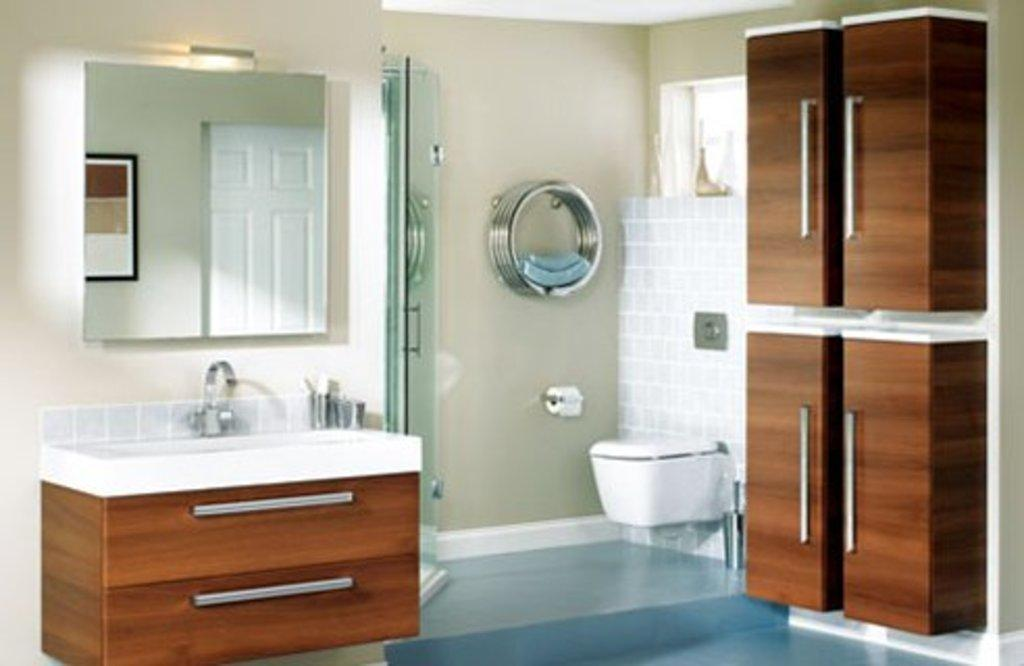cabinet_door: (838, 31, 940, 310), (838, 340, 936, 620), (114, 478, 418, 560), (118, 558, 418, 634), (749, 36, 833, 298), (750, 334, 828, 602)
handle: (188, 566, 355, 605), (187, 488, 356, 520), (792, 405, 819, 541), (838, 410, 860, 553), (794, 96, 816, 239), (840, 97, 861, 243), (411, 300, 425, 354)
